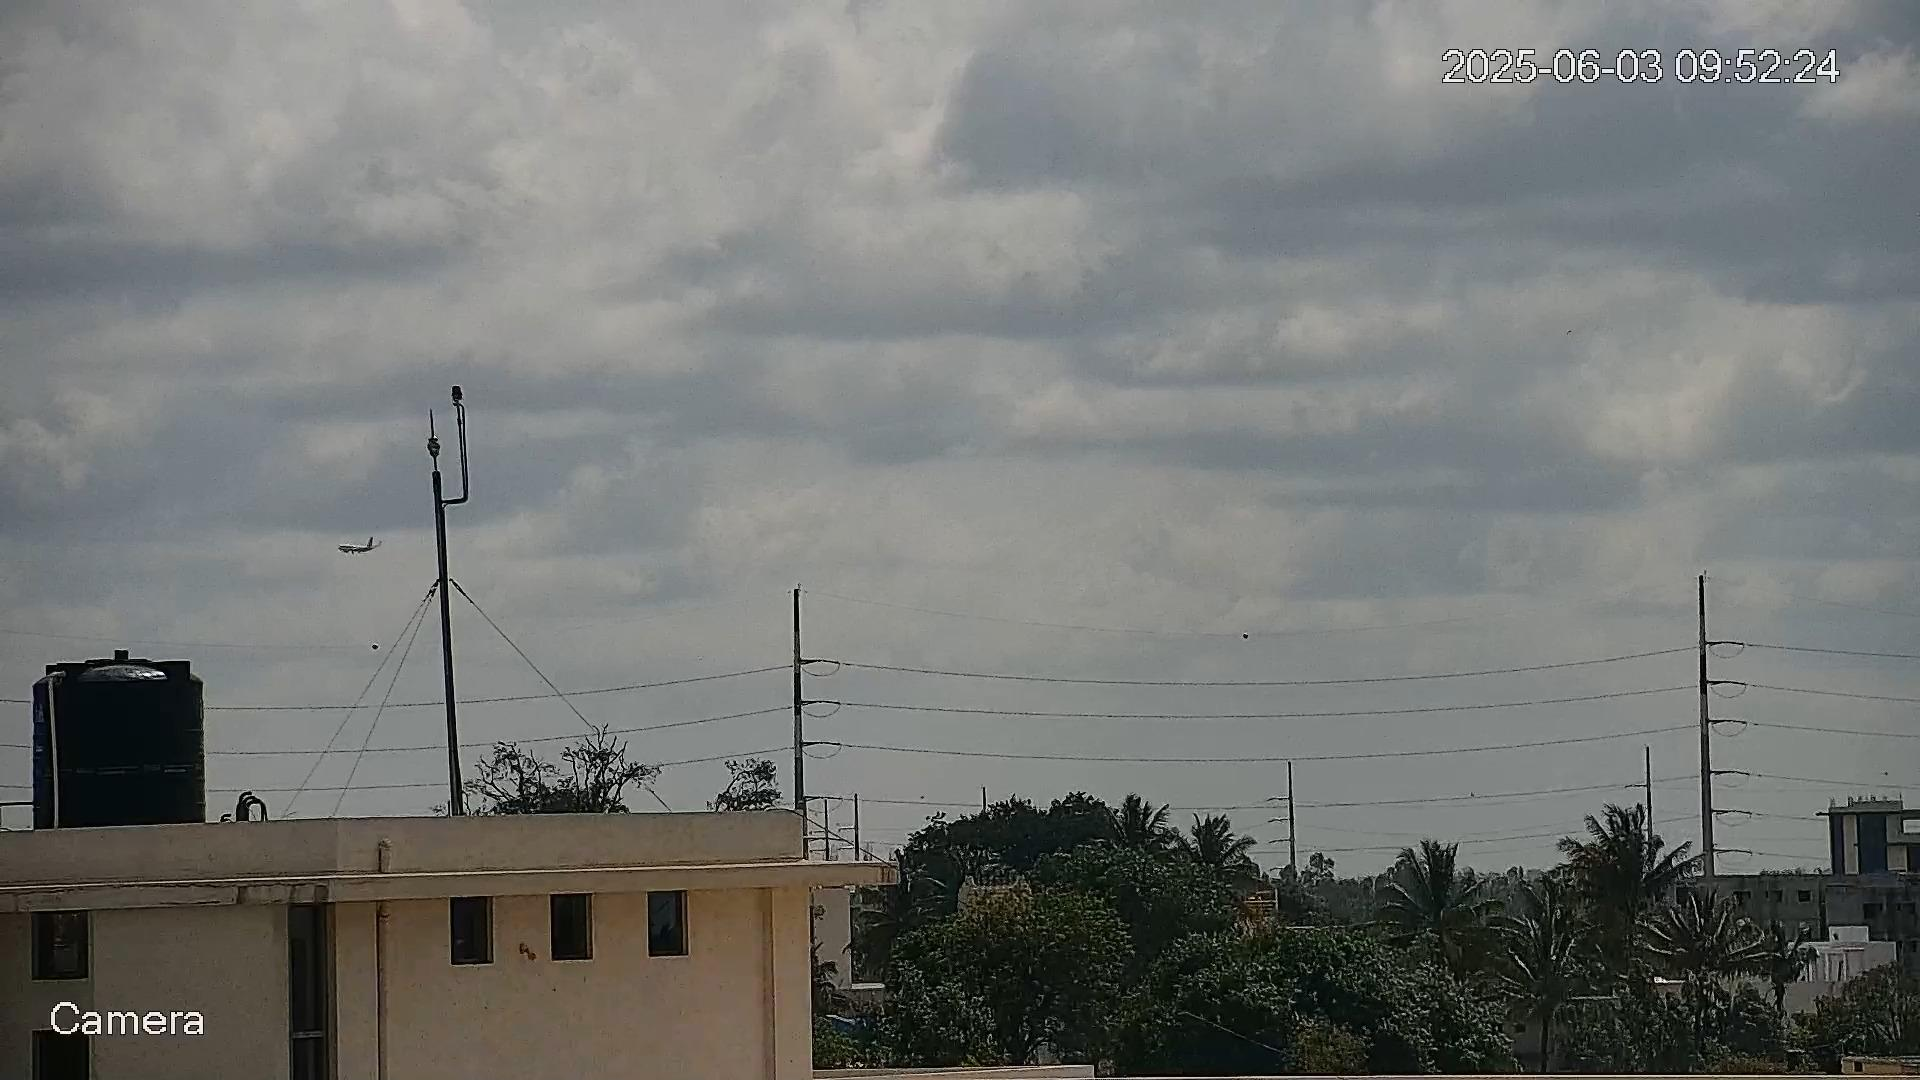Aircraft: (336, 537, 382, 555)
